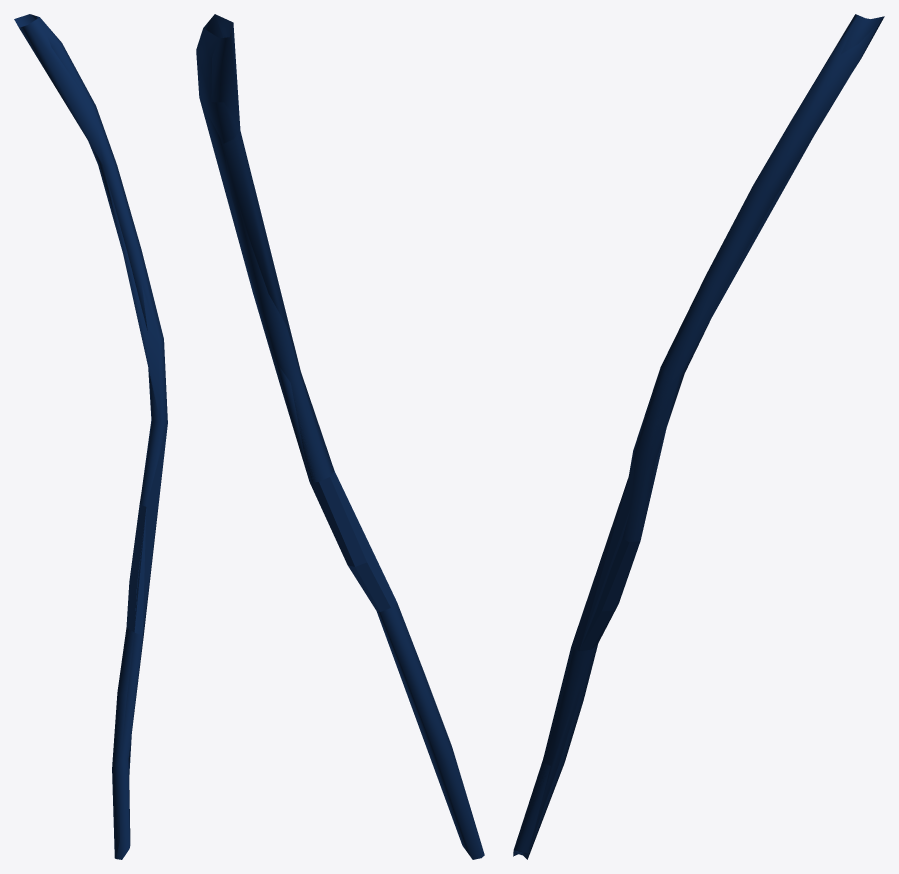
File: R vena metatarseae plantares II.fbx
3 views of the same model, side by side, from view 1: azimuth 30°, elevation 25°; view 2: azimuth 150°, elevation 25°; view 3: azimuth 270°, elevation 25° (orthographic). The views are drawn at different scales.
Visible parts, largest first — view 1: R vena metatarseae plantares II low, R vena metatarseae plantares II; view 2: R vena metatarseae plantares II, R vena metatarseae plantares II low; view 3: R vena metatarseae plantares II, R vena metatarseae plantares II low.
Part boxes in pixels (x1,y1,x2,y2): R vena metatarseae plantares II low: (14,14,167,857); R vena metatarseae plantares II: (14,14,167,859); R vena metatarseae plantares II: (196,14,484,859); R vena metatarseae plantares II low: (199,14,482,849); R vena metatarseae plantares II: (513,14,884,859); R vena metatarseae plantares II low: (514,14,879,853).
Bounding box in the file's own units: 1.75 × 11.09 × 4.26.
